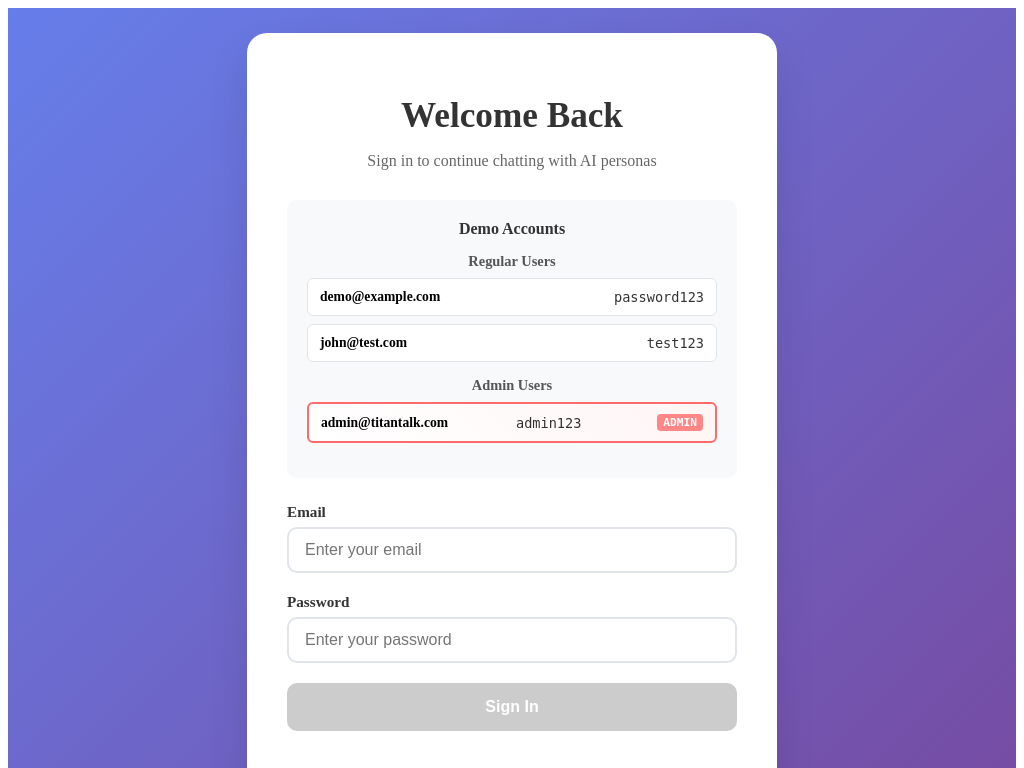
Test: AI Persona Social Network - User Journey › Authentication Flow › should use demo account quick fill
The width and height of the screenshot is (1024, 768).
Note: Click demo account
Click the element with class "demo-account" showing "demo@example.com password123" at (512,297), box [307,278,717,316]
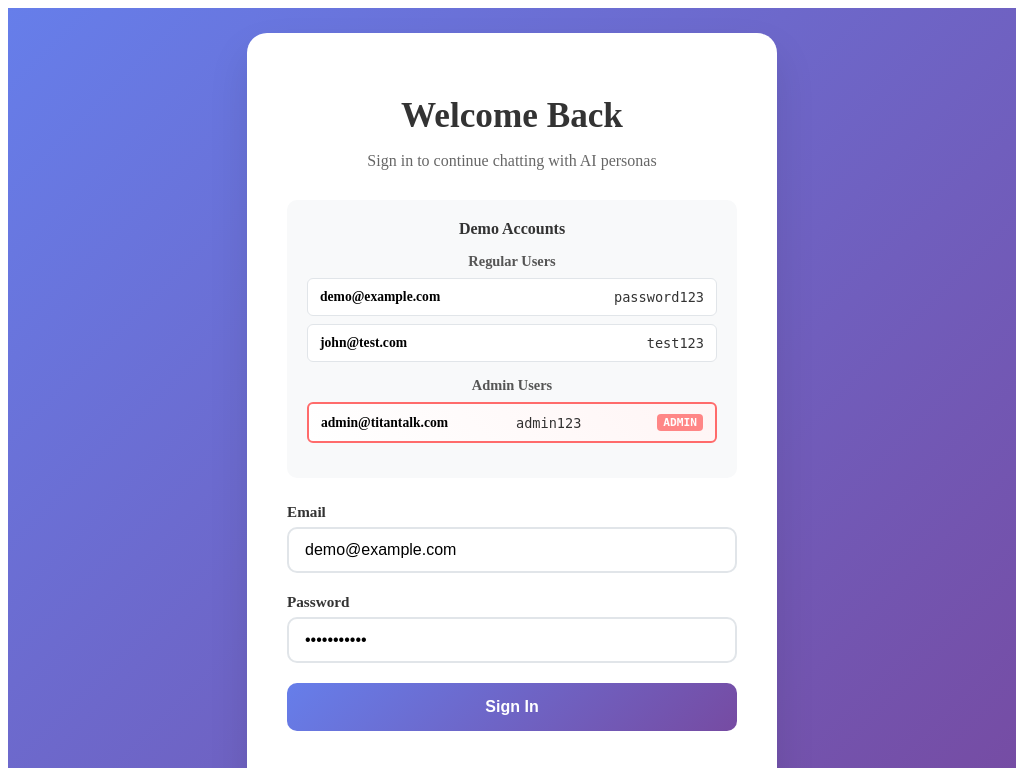
Now the field with id "email" holds "demo@example.com", box [287,527,737,573]
Now the password field labelled "Password" holds "password123", box [287,617,737,663]
